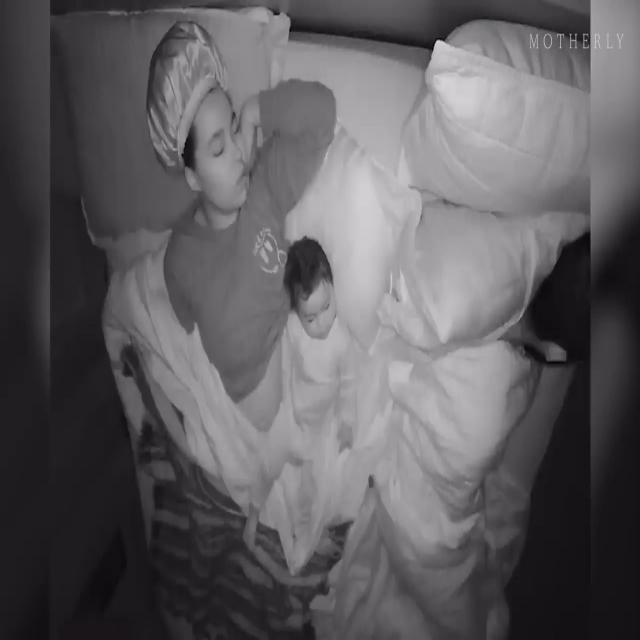baby: (245, 239, 358, 555)
